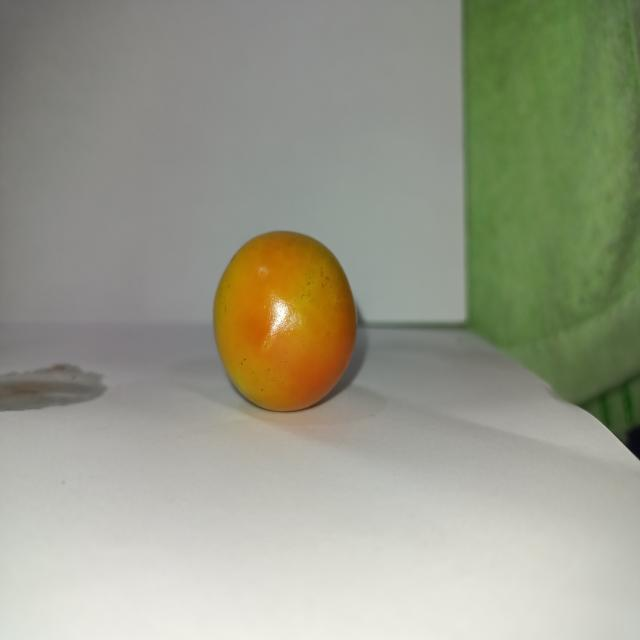Red: (211, 228, 357, 412)
